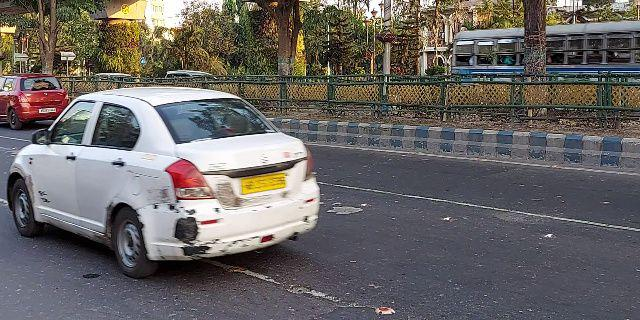Car: (6, 82, 323, 283), (1, 72, 72, 132)
